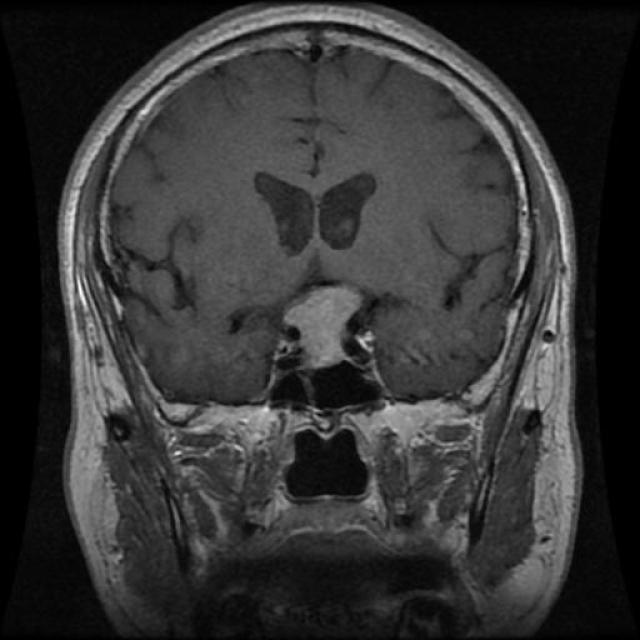pituitary: (274, 267, 383, 377)
